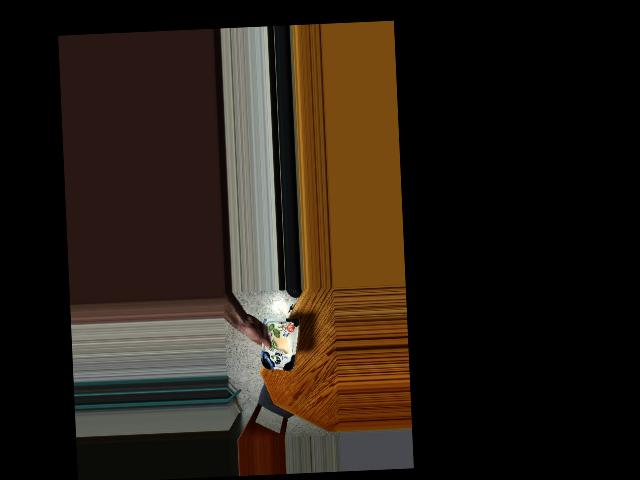cheese: (253, 316, 302, 370)
